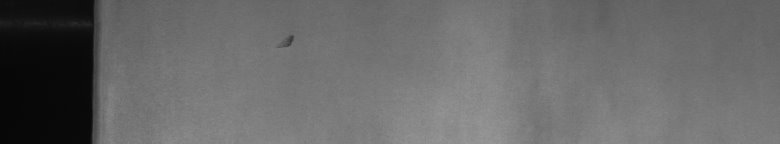fi: (277, 29, 297, 53)
